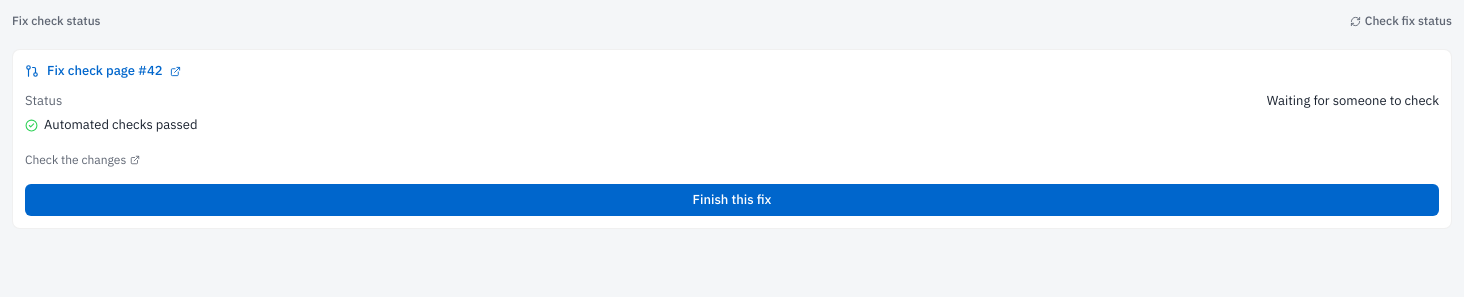
ReviewSnapshotPanel › explains when the current user cannot approve their own pull request
Click the button with test id "review-approve" at (732, 200), box [25,184,1439,216]
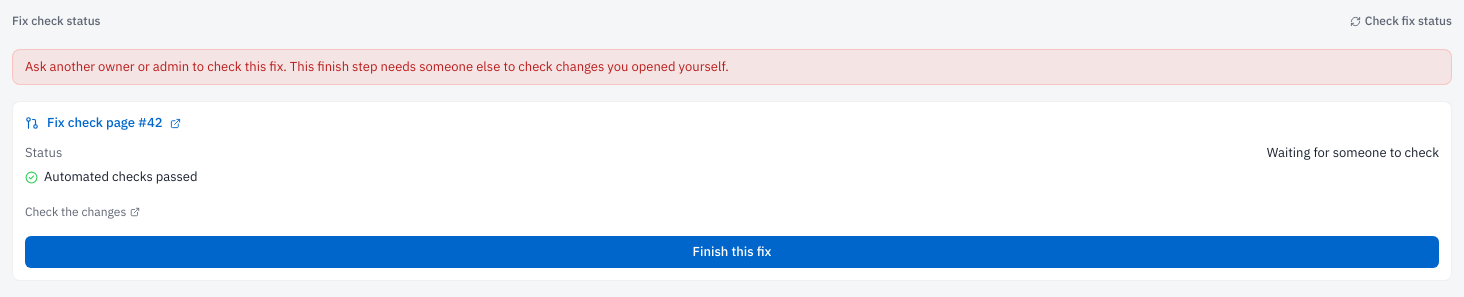
Expected: the message does not show "review system", [12,49,1452,85]
Now the message shows "Ask another owner or admin to check this fix.", box [25,58,729,75]
Now the message shows "This finish step needs someone else to check changes you opened yourself.", box [25,58,729,75]
